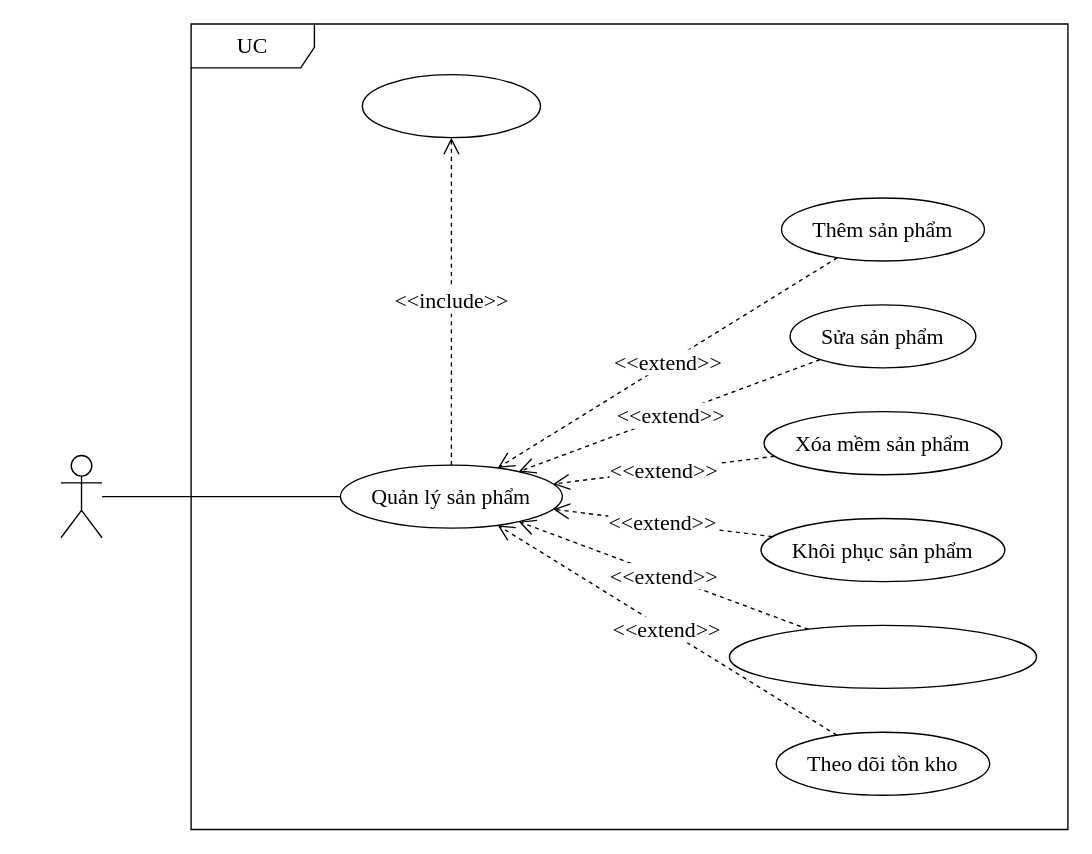
The diagram is 1092 pixels wide and 854 high, and some of its shapes have lost their labels. Each missing label, with the box of its shape:
Gán mùa, mệnh phong thủy: (728, 624, 1037, 688)
Quản trị viên: (60, 454, 102, 538)
Đăng nhập: (361, 73, 540, 138)
